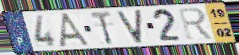2: (152, 7, 187, 45)
4: (33, 14, 57, 48)
A: (58, 12, 94, 48)
R: (176, 7, 216, 41)
T: (89, 10, 115, 46)
V: (115, 9, 144, 45)
